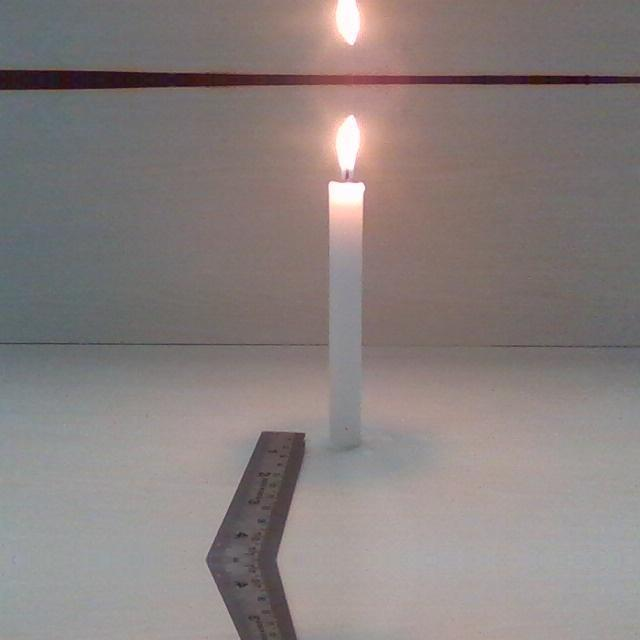smoke: (330, 113, 368, 179), (330, 0, 368, 47)
